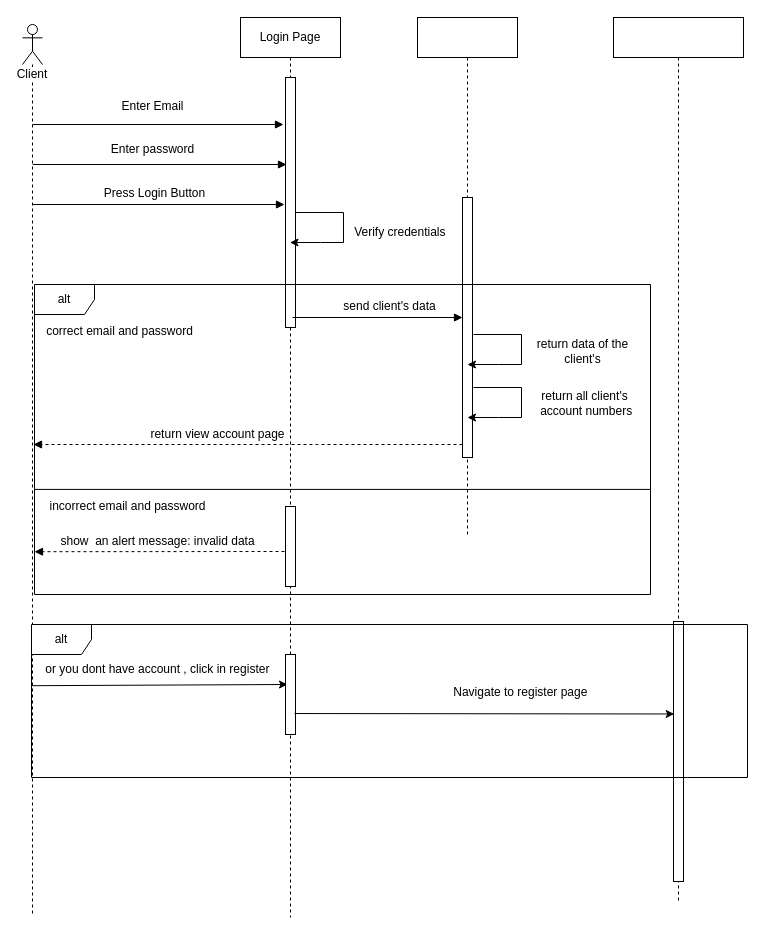
Image size: 765x935. Some labels were removed from this diagram. Each missing label, with the box of its shape:
Register page: (612, 16, 744, 902)
View Account Page: (416, 16, 518, 538)
